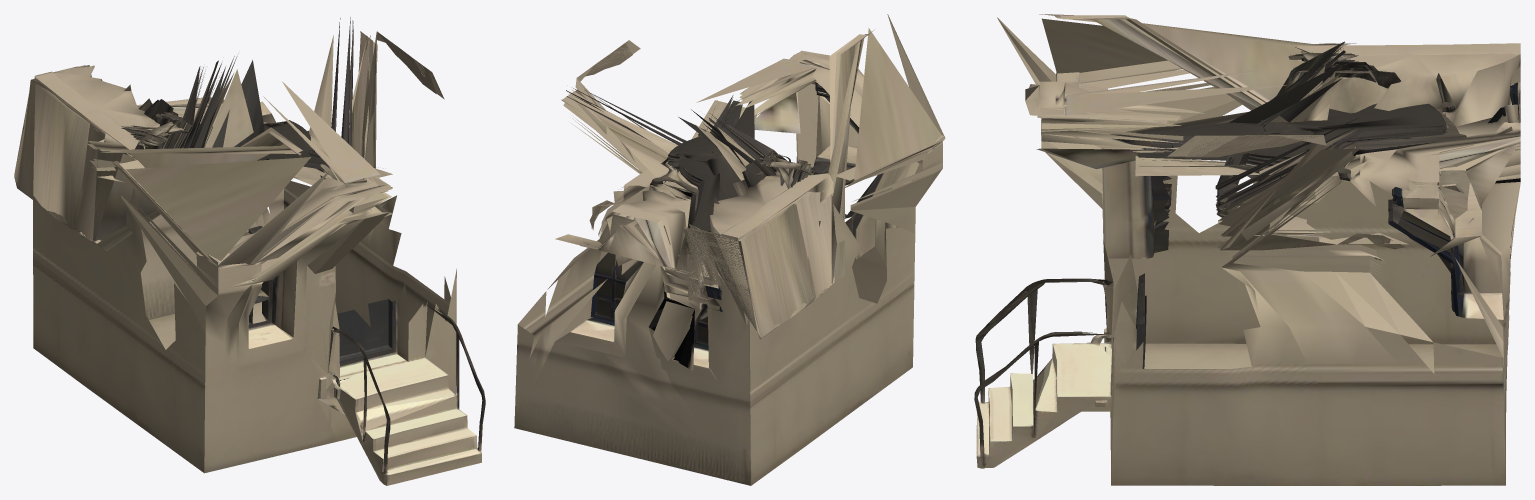
File: concrete_wreck.glb
The picture shows the model from 3 angles, left to right: view 1: azimuth 30°, elevation 25°; view 2: azimuth 150°, elevation 25°; view 3: azimuth 270°, elevation 25°; orthographic projection. The views are drawn at different scales.
Parts seen in each view (by area): view 1: wall.001, roof.001; view 2: wall.001, roof.001; view 3: wall.001, roof.001.
Part boxes in pixels (x1,y1,x2,y2): wall.001: (14,17,485,485); roof.001: (14,31,444,265); wall.001: (514,14,945,485); roof.001: (555,15,943,338); wall.001: (974,14,1520,485); roof.001: (997,15,1520,255).
Size of the model in its own units: 3.6 by 3.98 by 5.33.
Materials: 1 (1 with a texture image).
